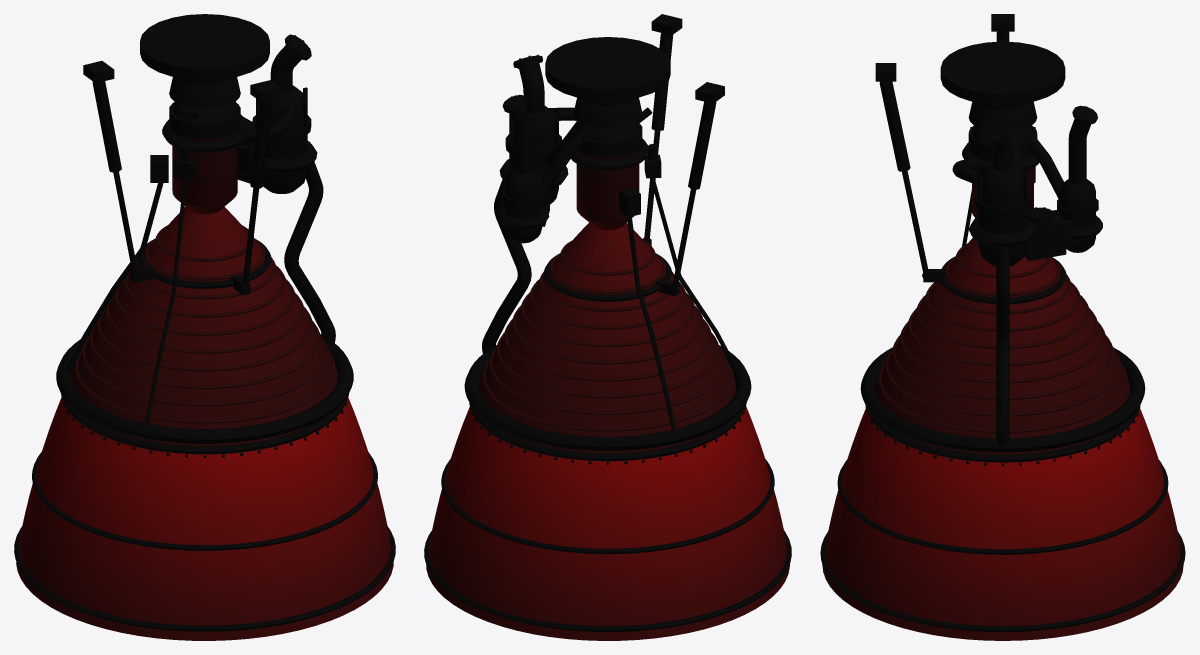
File: eng_hydrolox_vacuum.fbx
3 renders of one model, left to right at view 1: azimuth 30°, elevation 25°; view 2: azimuth 150°, elevation 25°; view 3: azimuth 270°, elevation 25°, orthographic. The views are drawn at different scales.
Visible parts, largest first — view 1: eng_hydrolox_vacuum_LOD0; view 2: eng_hydrolox_vacuum_LOD0; view 3: eng_hydrolox_vacuum_LOD0.
Boxes of the visible parts, <box> form: eng_hydrolox_vacuum_LOD0: <box>14,14,395,640</box>; eng_hydrolox_vacuum_LOD0: <box>424,14,791,640</box>; eng_hydrolox_vacuum_LOD0: <box>820,14,1185,640</box>.
Size of what is drawn, in the model's own units: 1.47 by 2.2 by 1.47.
